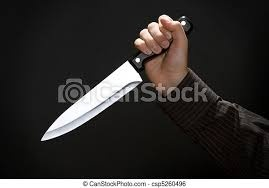knife: (40, 15, 192, 141)
